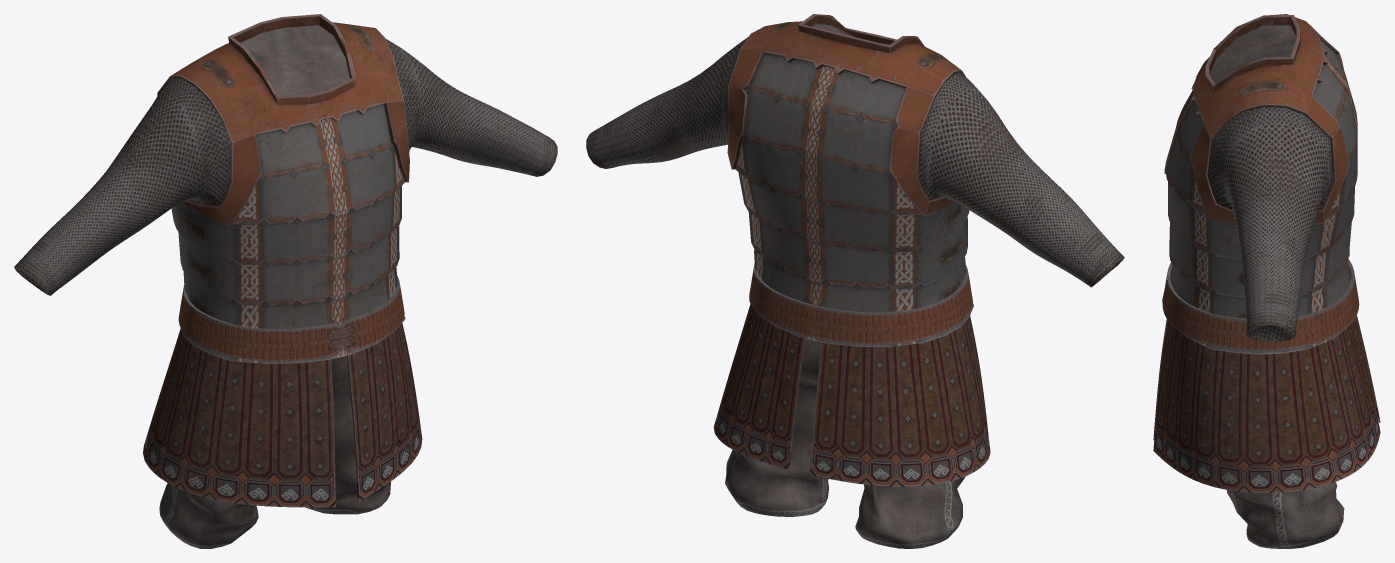
Rendered from sk_dwarf_dain_chest_med_b.fbx.
The picture shows the model from 3 angles, left to right: view 1: azimuth 30°, elevation 25°; view 2: azimuth 150°, elevation 25°; view 3: azimuth 270°, elevation 25°; orthographic projection. The views are drawn at different scales.
Parts seen in each view (by area): view 1: sk_dwarf_dain_chest_med_b.0, sk_dwarf_dain_chest_med_b.1; view 2: sk_dwarf_dain_chest_med_b.0, sk_dwarf_dain_chest_med_b.1; view 3: sk_dwarf_dain_chest_med_b.0, sk_dwarf_dain_chest_med_b.1.
Part boxes in pixels (bbox=[...]): sk_dwarf_dain_chest_med_b.0: bbox=[14, 14, 557, 548]; sk_dwarf_dain_chest_med_b.1: bbox=[143, 323, 422, 507]; sk_dwarf_dain_chest_med_b.0: bbox=[586, 14, 1124, 548]; sk_dwarf_dain_chest_med_b.1: bbox=[713, 304, 990, 486]; sk_dwarf_dain_chest_med_b.0: bbox=[1162, 14, 1359, 548]; sk_dwarf_dain_chest_med_b.1: bbox=[1153, 315, 1380, 493].
Bounding box in the file's own units: 1.16 × 0.4473 × 1.03.
2 materials, 2 textured.
